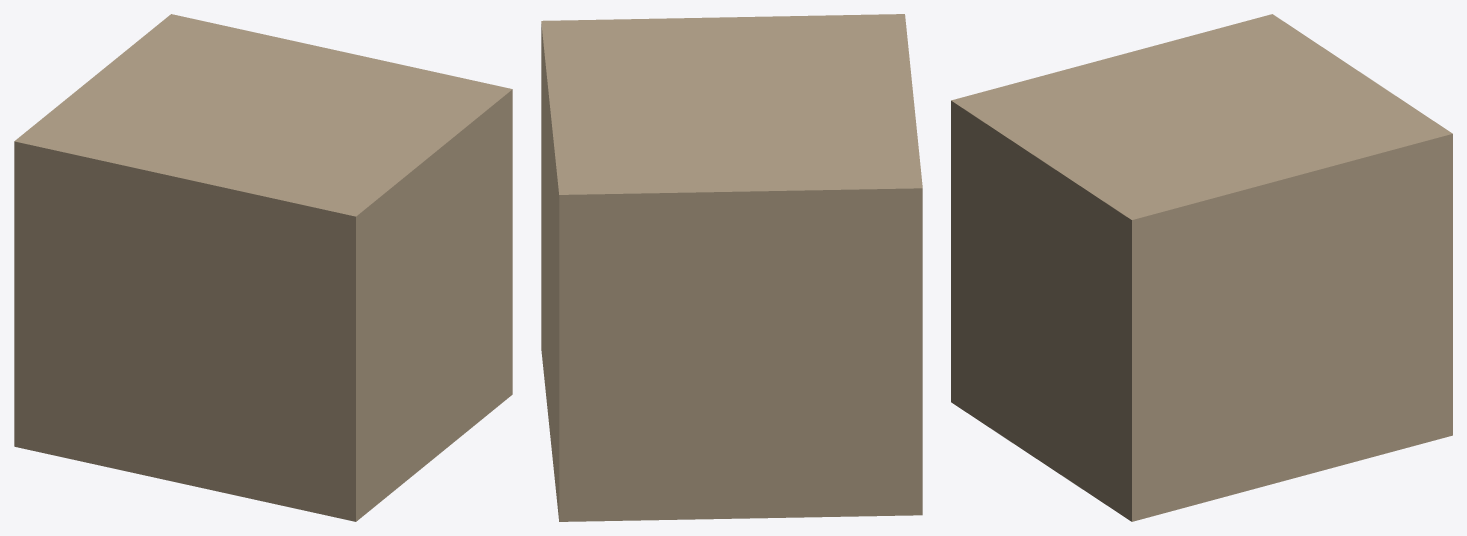
The model's file is bld_163484439.dae.
3 renders of one model, left to right at view 1: azimuth 30°, elevation 25°; view 2: azimuth 150°, elevation 25°; view 3: azimuth 270°, elevation 25°, orthographic. The views are drawn at different scales.
Visible parts, largest first — view 1: bld_163484439; view 2: bld_163484439; view 3: bld_163484439.
Boxes of the visible parts, bbox=[...] form: bld_163484439: bbox=[14, 14, 512, 521]; bld_163484439: bbox=[541, 14, 922, 521]; bld_163484439: bbox=[951, 14, 1452, 521].
Bounding box in the file's own units: 11.72 × 12.06 × 8.
